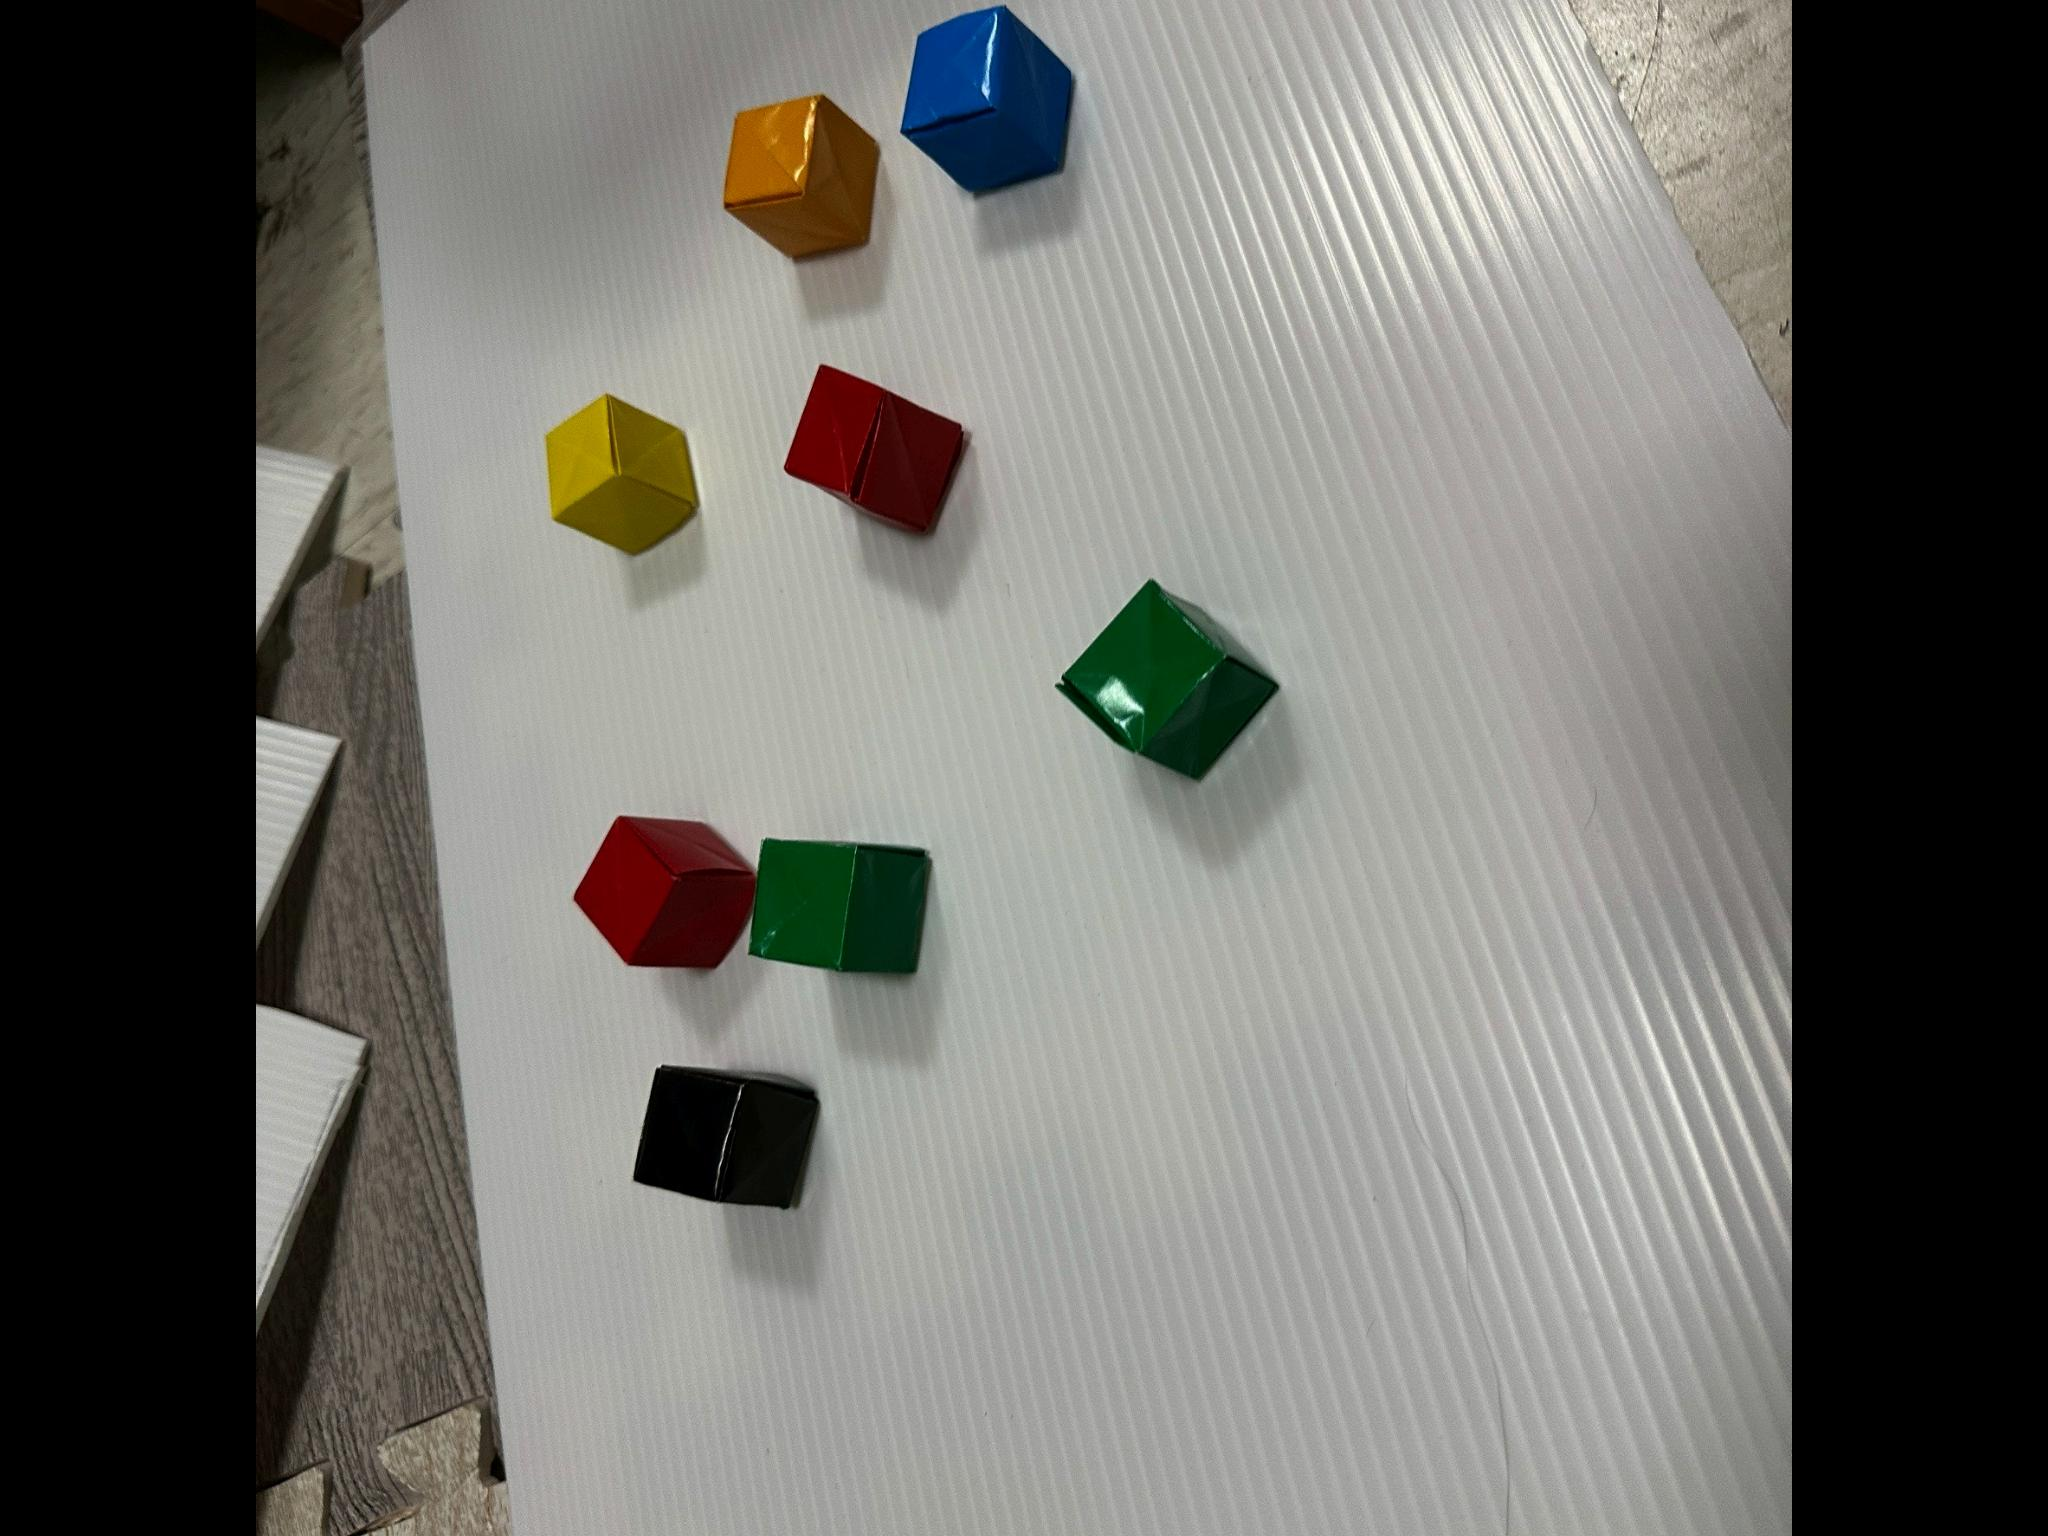base: (1059, 581, 1277, 778), (901, 5, 1072, 190), (787, 363, 963, 531), (574, 816, 755, 968), (635, 1065, 818, 1207), (724, 94, 877, 258), (750, 839, 929, 973), (547, 395, 693, 552)
